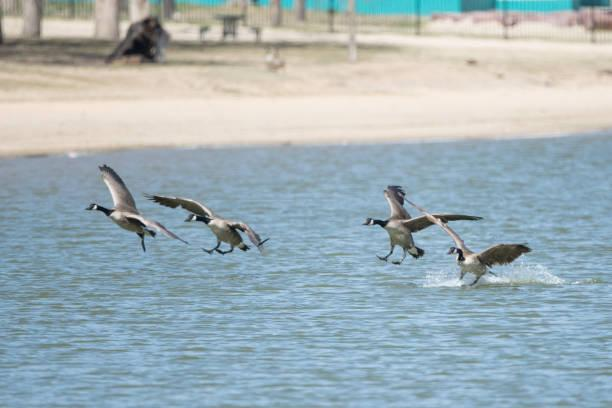Canadian-Goose: (409, 192, 534, 287), (140, 181, 271, 261), (361, 183, 483, 267), (84, 160, 155, 256)
